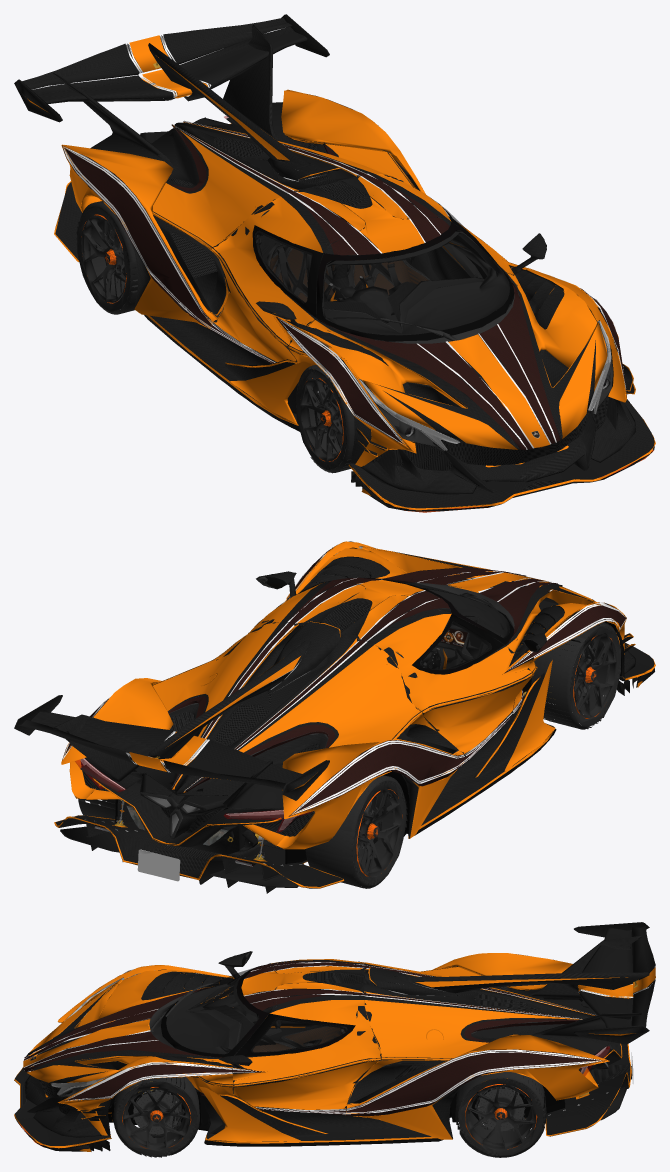
The model's file is 2020-apollo-intensa-emozione-orange-drag-de6ff4.glb.
3 renders of one model, top to bottom at view 1: azimuth 30°, elevation 25°; view 2: azimuth 150°, elevation 25°; view 3: azimuth 270°, elevation 25°, orthographic. The views are drawn at different scales.
Parts seen in each view (by area): view 1: body, wheel-back-right, wheel-front-right; view 2: body, wheel-back-right, wheel-front-right, wheel-back-left; view 3: body, wheel-back-left, wheel-front-left.
Boxes of the visible parts, left/top/right/bottom form: body: left=14, top=14, right=655, bottom=512; wheel-back-right: left=76, top=206, right=137, bottom=314; wheel-front-right: left=295, top=369, right=354, bottom=473; body: left=14, top=541, right=655, bottom=893; wheel-back-right: left=305, top=780, right=407, bottom=888; wheel-front-right: left=531, top=626, right=620, bottom=729; wheel-back-left: left=78, top=798, right=115, bottom=819; body: left=14, top=922, right=655, bottom=1151; wheel-back-left: left=455, top=1076, right=546, bottom=1157; wheel-front-left: left=113, top=1077, right=199, bottom=1157.
Size of the model in its own units: 1.91 by 1.07 by 4.7.
Materials: 19 (14 with a texture image).
